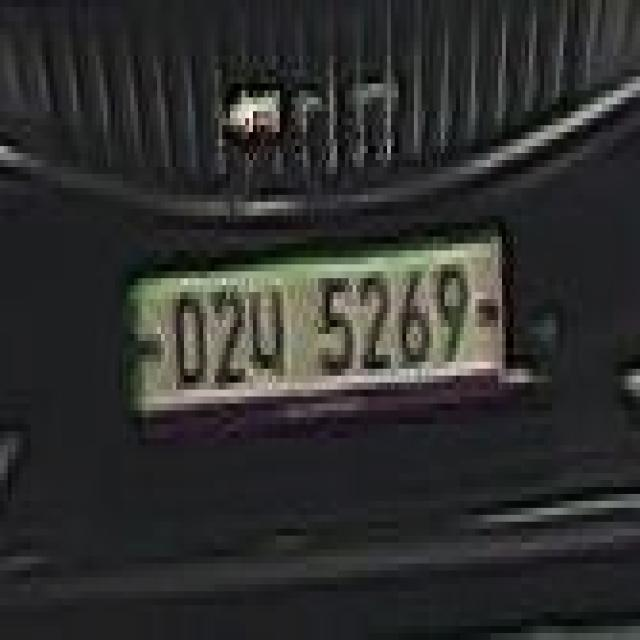illegal_plate: (124, 224, 514, 437)
